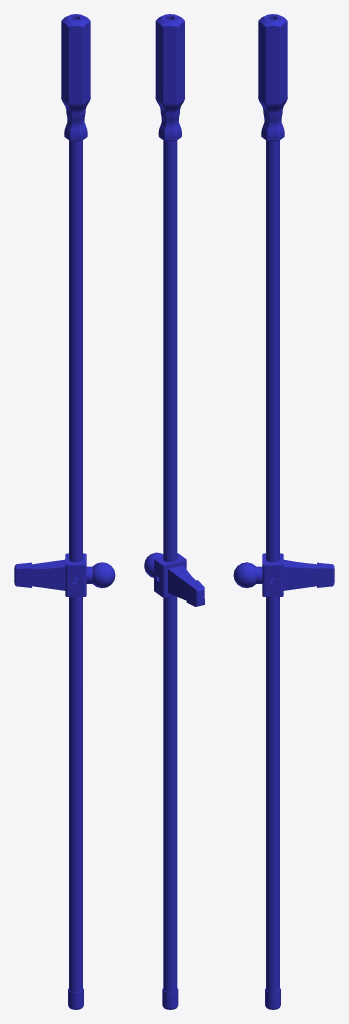
File: 1-bar-centered_team_2.obj
3 renders of one model, left to right at view 1: azimuth 90°, elevation 25°; view 2: azimuth 210°, elevation 25°; view 3: azimuth 270°, elevation 25°, orthographic.
Parts seen in each view (by area): view 1: 1-bar; view 2: 1-bar; view 3: 1-bar.
Boxes of the visible parts, box(x1,y1,x2,y2) form: 1-bar: box(14, 14, 115, 1009); 1-bar: box(144, 14, 204, 1009); 1-bar: box(233, 14, 334, 1009).
Size of the model in its own units: 0.032 by 1.24 by 0.115.
